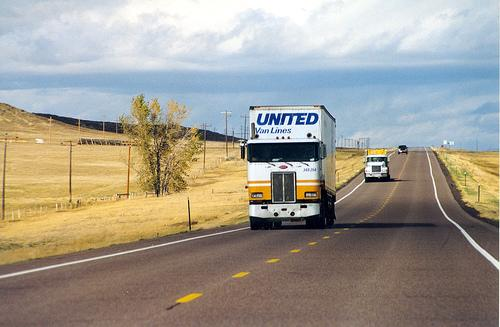truck: (239, 104, 337, 231), (363, 147, 391, 183)
